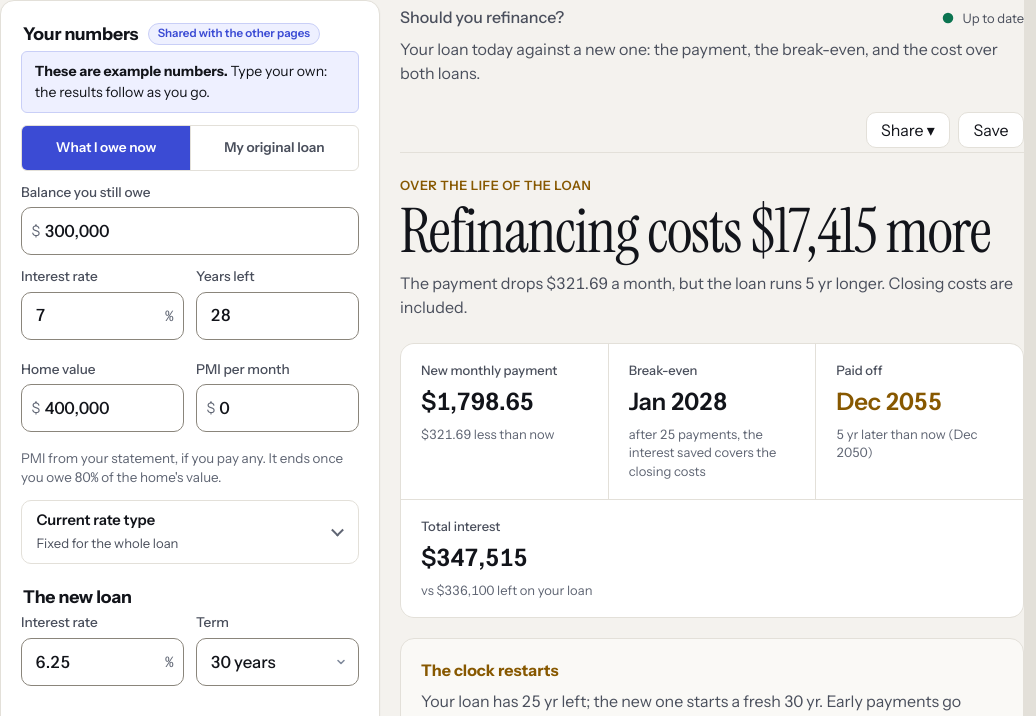
RefinancePageComponent › offers to save the comparison, suggesting a name built from the two rates
Click the button with test id "save-open" at (991, 130), box [958,112,1024,148]
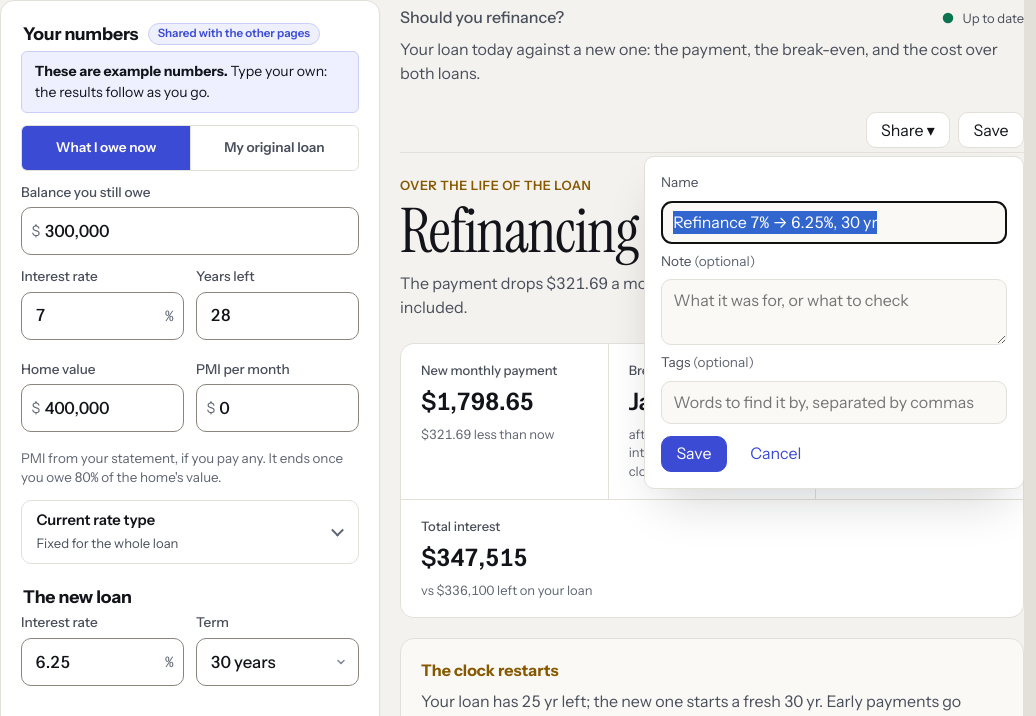
Now the field with test id "save-name" holds "Refinance 7% → 6.25%, 30 yr", box [661,201,1007,244]
